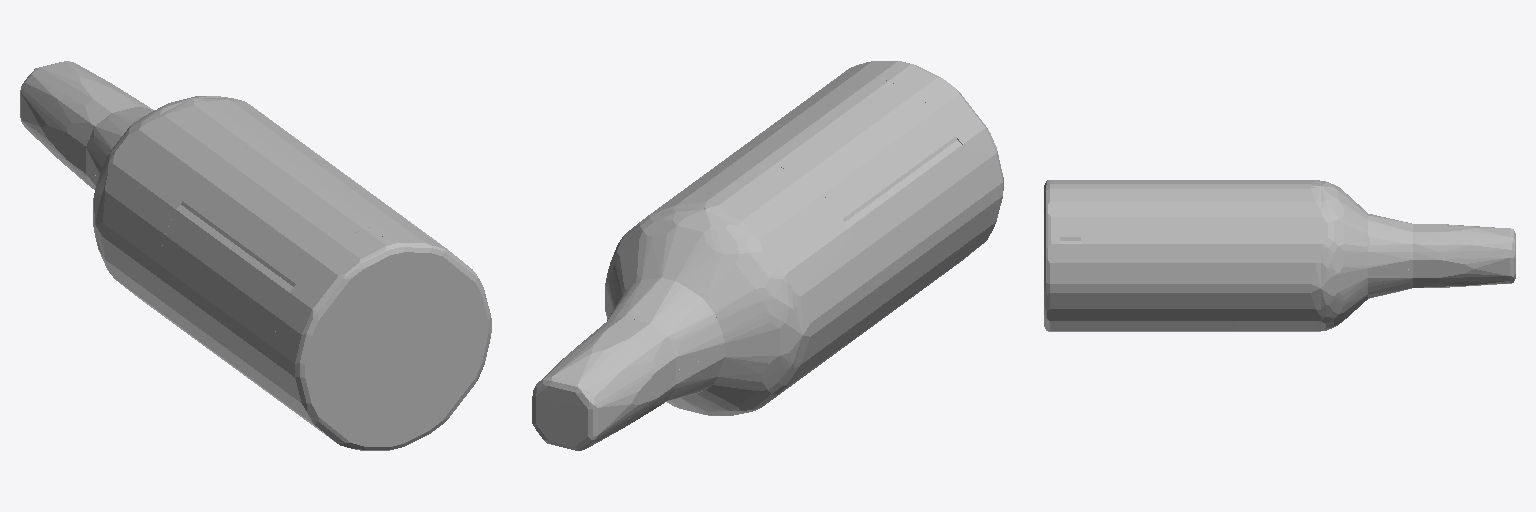
URDF robot description (root):
<robot name="root">
  <link name="link_coacd_convex_piece_0">
    <inertial>
      <origin xyz="0 0 0" rpy="0 0 0"/>
      <inertia ixx="3.10E-03" ixy="-2.65E-07" ixz="-2.00E-08" iyy="4.79E-05" iyz="-3.59E-07" izz="3.10E-03"/>
    </inertial>
    <visual>
      <origin xyz="0 0 0" rpy="0 0 0"/>
      <geometry>
        <mesh filename="coacd_convex_piece_0.obj" scale="1.0000E+00 1.0000E+00 1.0000E+00"/>
      </geometry>
      <material name="">
        <color rgba="7.50E-01 7.50E-01 7.50E-01 1"/>
      </material>
    </visual>
    <collision>
      <origin xyz="0 0 0" rpy="0 0 0"/>
      <geometry>
        <mesh filename="coacd_convex_piece_0.obj" scale="1.0000E+00 1.0000E+00 1.0000E+00"/>
      </geometry>
    </collision>
  </link>
  <link name="link_coacd_convex_piece_1">
    <inertial>
      <origin xyz="0 0 0" rpy="0 0 0"/>
      <inertia ixx="2.00E-03" ixy="6.83E-04" ixz="-1.84E-04" iyy="5.41E-04" iyz="6.43E-04" izz="2.02E-03"/>
    </inertial>
    <visual>
      <origin xyz="0 0 0" rpy="0 0 0"/>
      <geometry>
        <mesh filename="coacd_convex_piece_1.obj" scale="1.0000E+00 1.0000E+00 1.0000E+00"/>
      </geometry>
      <material name="">
        <color rgba="7.50E-01 7.50E-01 7.50E-01 1"/>
      </material>
    </visual>
    <collision>
      <origin xyz="0 0 0" rpy="0 0 0"/>
      <geometry>
        <mesh filename="coacd_convex_piece_1.obj" scale="1.0000E+00 1.0000E+00 1.0000E+00"/>
      </geometry>
    </collision>
  </link>
  <joint name="link_coacd_convex_piece_1_joint" type="fixed">
    <origin xyz="0 0 0" rpy="0 0 0"/>
    <parent link="link_coacd_convex_piece_0"/>
    <child link="link_coacd_convex_piece_1"/>
  </joint>
  <link name="link_coacd_convex_piece_2">
    <inertial>
      <origin xyz="0 0 0" rpy="0 0 0"/>
      <inertia ixx="3.47E-04" ixy="4.30E-05" ixz="-1.16E-05" iyy="3.55E-05" iyz="9.85E-05" izz="3.26E-04"/>
    </inertial>
    <visual>
      <origin xyz="0 0 0" rpy="0 0 0"/>
      <geometry>
        <mesh filename="coacd_convex_piece_2.obj" scale="1.0000E+00 1.0000E+00 1.0000E+00"/>
      </geometry>
      <material name="">
        <color rgba="7.50E-01 7.50E-01 7.50E-01 1"/>
      </material>
    </visual>
    <collision>
      <origin xyz="0 0 0" rpy="0 0 0"/>
      <geometry>
        <mesh filename="coacd_convex_piece_2.obj" scale="1.0000E+00 1.0000E+00 1.0000E+00"/>
      </geometry>
    </collision>
  </link>
  <joint name="link_coacd_convex_piece_2_joint" type="fixed">
    <origin xyz="0 0 0" rpy="0 0 0"/>
    <parent link="link_coacd_convex_piece_1"/>
    <child link="link_coacd_convex_piece_2"/>
  </joint>
  <link name="link_coacd_convex_piece_3">
    <inertial>
      <origin xyz="0 0 0" rpy="0 0 0"/>
      <inertia ixx="2.69E-03" ixy="8.31E-04" ixz="2.07E-04" iyy="6.10E-04" iyz="-7.81E-04" izz="2.72E-03"/>
    </inertial>
    <visual>
      <origin xyz="0 0 0" rpy="0 0 0"/>
      <geometry>
        <mesh filename="coacd_convex_piece_3.obj" scale="1.0000E+00 1.0000E+00 1.0000E+00"/>
      </geometry>
      <material name="">
        <color rgba="7.50E-01 7.50E-01 7.50E-01 1"/>
      </material>
    </visual>
    <collision>
      <origin xyz="0 0 0" rpy="0 0 0"/>
      <geometry>
        <mesh filename="coacd_convex_piece_3.obj" scale="1.0000E+00 1.0000E+00 1.0000E+00"/>
      </geometry>
    </collision>
  </link>
  <joint name="link_coacd_convex_piece_3_joint" type="fixed">
    <origin xyz="0 0 0" rpy="0 0 0"/>
    <parent link="link_coacd_convex_piece_2"/>
    <child link="link_coacd_convex_piece_3"/>
  </joint>
  <link name="link_coacd_convex_piece_4">
    <inertial>
      <origin xyz="0 0 0" rpy="0 0 0"/>
      <inertia ixx="2.80E-03" ixy="6.46E-07" ixz="8.81E-08" iyy="1.63E-04" iyz="-4.14E-04" izz="2.80E-03"/>
    </inertial>
    <visual>
      <origin xyz="0 0 0" rpy="0 0 0"/>
      <geometry>
        <mesh filename="coacd_convex_piece_4.obj" scale="1.0000E+00 1.0000E+00 1.0000E+00"/>
      </geometry>
      <material name="">
        <color rgba="7.50E-01 7.50E-01 7.50E-01 1"/>
      </material>
    </visual>
    <collision>
      <origin xyz="0 0 0" rpy="0 0 0"/>
      <geometry>
        <mesh filename="coacd_convex_piece_4.obj" scale="1.0000E+00 1.0000E+00 1.0000E+00"/>
      </geometry>
    </collision>
  </link>
  <joint name="link_coacd_convex_piece_4_joint" type="fixed">
    <origin xyz="0 0 0" rpy="0 0 0"/>
    <parent link="link_coacd_convex_piece_3"/>
    <child link="link_coacd_convex_piece_4"/>
  </joint>
  <link name="link_coacd_convex_piece_5">
    <inertial>
      <origin xyz="0 0 0" rpy="0 0 0"/>
      <inertia ixx="1.30E-03" ixy="-2.15E-04" ixz="-9.23E-05" iyy="3.02E-04" iyz="-5.23E-04" izz="1.12E-03"/>
    </inertial>
    <visual>
      <origin xyz="0 0 0" rpy="0 0 0"/>
      <geometry>
        <mesh filename="coacd_convex_piece_5.obj" scale="1.0000E+00 1.0000E+00 1.0000E+00"/>
      </geometry>
      <material name="">
        <color rgba="7.50E-01 7.50E-01 7.50E-01 1"/>
      </material>
    </visual>
    <collision>
      <origin xyz="0 0 0" rpy="0 0 0"/>
      <geometry>
        <mesh filename="coacd_convex_piece_5.obj" scale="1.0000E+00 1.0000E+00 1.0000E+00"/>
      </geometry>
    </collision>
  </link>
  <joint name="link_coacd_convex_piece_5_joint" type="fixed">
    <origin xyz="0 0 0" rpy="0 0 0"/>
    <parent link="link_coacd_convex_piece_4"/>
    <child link="link_coacd_convex_piece_5"/>
  </joint>
  <link name="link_coacd_convex_piece_6">
    <inertial>
      <origin xyz="0 0 0" rpy="0 0 0"/>
      <inertia ixx="1.19E-04" ixy="-2.81E-05" ixz="-4.11E-06" iyy="1.23E-05" iyz="-2.77E-05" izz="1.19E-04"/>
    </inertial>
    <visual>
      <origin xyz="0 0 0" rpy="0 0 0"/>
      <geometry>
        <mesh filename="coacd_convex_piece_6.obj" scale="1.0000E+00 1.0000E+00 1.0000E+00"/>
      </geometry>
      <material name="">
        <color rgba="7.50E-01 7.50E-01 7.50E-01 1"/>
      </material>
    </visual>
    <collision>
      <origin xyz="0 0 0" rpy="0 0 0"/>
      <geometry>
        <mesh filename="coacd_convex_piece_6.obj" scale="1.0000E+00 1.0000E+00 1.0000E+00"/>
      </geometry>
    </collision>
  </link>
  <joint name="link_coacd_convex_piece_6_joint" type="fixed">
    <origin xyz="0 0 0" rpy="0 0 0"/>
    <parent link="link_coacd_convex_piece_5"/>
    <child link="link_coacd_convex_piece_6"/>
  </joint>
  <link name="link_coacd_convex_piece_7">
    <inertial>
      <origin xyz="0 0 0" rpy="0 0 0"/>
      <inertia ixx="1.21E-04" ixy="2.77E-05" ixz="3.98E-06" iyy="1.23E-05" iyz="-2.81E-05" izz="1.21E-04"/>
    </inertial>
    <visual>
      <origin xyz="0 0 0" rpy="0 0 0"/>
      <geometry>
        <mesh filename="coacd_convex_piece_7.obj" scale="1.0000E+00 1.0000E+00 1.0000E+00"/>
      </geometry>
      <material name="">
        <color rgba="7.50E-01 7.50E-01 7.50E-01 1"/>
      </material>
    </visual>
    <collision>
      <origin xyz="0 0 0" rpy="0 0 0"/>
      <geometry>
        <mesh filename="coacd_convex_piece_7.obj" scale="1.0000E+00 1.0000E+00 1.0000E+00"/>
      </geometry>
    </collision>
  </link>
  <joint name="link_coacd_convex_piece_7_joint" type="fixed">
    <origin xyz="0 0 0" rpy="0 0 0"/>
    <parent link="link_coacd_convex_piece_6"/>
    <child link="link_coacd_convex_piece_7"/>
  </joint>
  <link name="link_coacd_convex_piece_8">
    <inertial>
      <origin xyz="0 0 0" rpy="0 0 0"/>
      <inertia ixx="5.95E-05" ixy="-7.33E-05" ixz="-3.45E-05" iyy="1.04E-04" iyz="-7.29E-05" izz="5.99E-05"/>
    </inertial>
    <visual>
      <origin xyz="0 0 0" rpy="0 0 0"/>
      <geometry>
        <mesh filename="coacd_convex_piece_8.obj" scale="1.0000E+00 1.0000E+00 1.0000E+00"/>
      </geometry>
      <material name="">
        <color rgba="7.50E-01 7.50E-01 7.50E-01 1"/>
      </material>
    </visual>
    <collision>
      <origin xyz="0 0 0" rpy="0 0 0"/>
      <geometry>
        <mesh filename="coacd_convex_piece_8.obj" scale="1.0000E+00 1.0000E+00 1.0000E+00"/>
      </geometry>
    </collision>
  </link>
  <joint name="link_coacd_convex_piece_8_joint" type="fixed">
    <origin xyz="0 0 0" rpy="0 0 0"/>
    <parent link="link_coacd_convex_piece_7"/>
    <child link="link_coacd_convex_piece_8"/>
  </joint>
  <link name="link_coacd_convex_piece_9">
    <inertial>
      <origin xyz="0 0 0" rpy="0 0 0"/>
      <inertia ixx="-8.70E-05" ixy="6.70E-06" ixz="-1.04E-04" iyy="3.16E-04" iyz="6.67E-06" izz="-8.60E-05"/>
    </inertial>
    <visual>
      <origin xyz="0 0 0" rpy="0 0 0"/>
      <geometry>
        <mesh filename="coacd_convex_piece_9.obj" scale="1.0000E+00 1.0000E+00 1.0000E+00"/>
      </geometry>
      <material name="">
        <color rgba="7.50E-01 7.50E-01 7.50E-01 1"/>
      </material>
    </visual>
    <collision>
      <origin xyz="0 0 0" rpy="0 0 0"/>
      <geometry>
        <mesh filename="coacd_convex_piece_9.obj" scale="1.0000E+00 1.0000E+00 1.0000E+00"/>
      </geometry>
    </collision>
  </link>
  <joint name="link_coacd_convex_piece_9_joint" type="fixed">
    <origin xyz="0 0 0" rpy="0 0 0"/>
    <parent link="link_coacd_convex_piece_8"/>
    <child link="link_coacd_convex_piece_9"/>
  </joint>
  <link name="link_coacd_convex_piece_10">
    <inertial>
      <origin xyz="0 0 0" rpy="0 0 0"/>
      <inertia ixx="5.87E-05" ixy="7.17E-05" ixz="3.34E-05" iyy="1.02E-04" iyz="-7.19E-05" izz="5.86E-05"/>
    </inertial>
    <visual>
      <origin xyz="0 0 0" rpy="0 0 0"/>
      <geometry>
        <mesh filename="coacd_convex_piece_10.obj" scale="1.0000E+00 1.0000E+00 1.0000E+00"/>
      </geometry>
      <material name="">
        <color rgba="7.50E-01 7.50E-01 7.50E-01 1"/>
      </material>
    </visual>
    <collision>
      <origin xyz="0 0 0" rpy="0 0 0"/>
      <geometry>
        <mesh filename="coacd_convex_piece_10.obj" scale="1.0000E+00 1.0000E+00 1.0000E+00"/>
      </geometry>
    </collision>
  </link>
  <joint name="link_coacd_convex_piece_10_joint" type="fixed">
    <origin xyz="0 0 0" rpy="0 0 0"/>
    <parent link="link_coacd_convex_piece_9"/>
    <child link="link_coacd_convex_piece_10"/>
  </joint>
  <link name="link_coacd_convex_piece_11">
    <inertial>
      <origin xyz="0 0 0" rpy="0 0 0"/>
      <inertia ixx="-8.72E-05" ixy="-6.47E-06" ixz="1.05E-04" iyy="3.20E-04" iyz="6.49E-06" izz="-8.83E-05"/>
    </inertial>
    <visual>
      <origin xyz="0 0 0" rpy="0 0 0"/>
      <geometry>
        <mesh filename="coacd_convex_piece_11.obj" scale="1.0000E+00 1.0000E+00 1.0000E+00"/>
      </geometry>
      <material name="">
        <color rgba="7.50E-01 7.50E-01 7.50E-01 1"/>
      </material>
    </visual>
    <collision>
      <origin xyz="0 0 0" rpy="0 0 0"/>
      <geometry>
        <mesh filename="coacd_convex_piece_11.obj" scale="1.0000E+00 1.0000E+00 1.0000E+00"/>
      </geometry>
    </collision>
  </link>
  <joint name="link_coacd_convex_piece_11_joint" type="fixed">
    <origin xyz="0 0 0" rpy="0 0 0"/>
    <parent link="link_coacd_convex_piece_10"/>
    <child link="link_coacd_convex_piece_11"/>
  </joint>
  <link name="link_coacd_convex_piece_12">
    <inertial>
      <origin xyz="0 0 0" rpy="0 0 0"/>
      <inertia ixx="9.39E-04" ixy="-1.64E-04" ixz="7.70E-05" iyy="2.57E-04" iyz="4.13E-04" izz="7.76E-04"/>
    </inertial>
    <visual>
      <origin xyz="0 0 0" rpy="0 0 0"/>
      <geometry>
        <mesh filename="coacd_convex_piece_12.obj" scale="1.0000E+00 1.0000E+00 1.0000E+00"/>
      </geometry>
      <material name="">
        <color rgba="7.50E-01 7.50E-01 7.50E-01 1"/>
      </material>
    </visual>
    <collision>
      <origin xyz="0 0 0" rpy="0 0 0"/>
      <geometry>
        <mesh filename="coacd_convex_piece_12.obj" scale="1.0000E+00 1.0000E+00 1.0000E+00"/>
      </geometry>
    </collision>
  </link>
  <joint name="link_coacd_convex_piece_12_joint" type="fixed">
    <origin xyz="0 0 0" rpy="0 0 0"/>
    <parent link="link_coacd_convex_piece_11"/>
    <child link="link_coacd_convex_piece_12"/>
  </joint>
  <link name="link_coacd_convex_piece_13">
    <inertial>
      <origin xyz="0 0 0" rpy="0 0 0"/>
      <inertia ixx="6.54E-04" ixy="-3.54E-04" ixz="6.47E-05" iyy="2.14E-04" iyz="1.35E-04" izz="8.01E-04"/>
    </inertial>
    <visual>
      <origin xyz="0 0 0" rpy="0 0 0"/>
      <geometry>
        <mesh filename="coacd_convex_piece_13.obj" scale="1.0000E+00 1.0000E+00 1.0000E+00"/>
      </geometry>
      <material name="">
        <color rgba="7.50E-01 7.50E-01 7.50E-01 1"/>
      </material>
    </visual>
    <collision>
      <origin xyz="0 0 0" rpy="0 0 0"/>
      <geometry>
        <mesh filename="coacd_convex_piece_13.obj" scale="1.0000E+00 1.0000E+00 1.0000E+00"/>
      </geometry>
    </collision>
  </link>
  <joint name="link_coacd_convex_piece_13_joint" type="fixed">
    <origin xyz="0 0 0" rpy="0 0 0"/>
    <parent link="link_coacd_convex_piece_12"/>
    <child link="link_coacd_convex_piece_13"/>
  </joint>
  <link name="link_coacd_convex_piece_14">
    <inertial>
      <origin xyz="0 0 0" rpy="0 0 0"/>
      <inertia ixx="2.38E-03" ixy="-3.28E-07" ixz="6.90E-08" iyy="1.36E-04" iyz="3.49E-04" izz="2.38E-03"/>
    </inertial>
    <visual>
      <origin xyz="0 0 0" rpy="0 0 0"/>
      <geometry>
        <mesh filename="coacd_convex_piece_14.obj" scale="1.0000E+00 1.0000E+00 1.0000E+00"/>
      </geometry>
      <material name="">
        <color rgba="7.50E-01 7.50E-01 7.50E-01 1"/>
      </material>
    </visual>
    <collision>
      <origin xyz="0 0 0" rpy="0 0 0"/>
      <geometry>
        <mesh filename="coacd_convex_piece_14.obj" scale="1.0000E+00 1.0000E+00 1.0000E+00"/>
      </geometry>
    </collision>
  </link>
  <joint name="link_coacd_convex_piece_14_joint" type="fixed">
    <origin xyz="0 0 0" rpy="0 0 0"/>
    <parent link="link_coacd_convex_piece_13"/>
    <child link="link_coacd_convex_piece_14"/>
  </joint>
  <link name="link_coacd_convex_piece_15">
    <inertial>
      <origin xyz="0 0 0" rpy="0 0 0"/>
      <inertia ixx="8.67E-04" ixy="-1.72E-04" ixz="2.64E-05" iyy="8.09E-05" iyz="1.72E-04" izz="8.67E-04"/>
    </inertial>
    <visual>
      <origin xyz="0 0 0" rpy="0 0 0"/>
      <geometry>
        <mesh filename="coacd_convex_piece_15.obj" scale="1.0000E+00 1.0000E+00 1.0000E+00"/>
      </geometry>
      <material name="">
        <color rgba="7.50E-01 7.50E-01 7.50E-01 1"/>
      </material>
    </visual>
    <collision>
      <origin xyz="0 0 0" rpy="0 0 0"/>
      <geometry>
        <mesh filename="coacd_convex_piece_15.obj" scale="1.0000E+00 1.0000E+00 1.0000E+00"/>
      </geometry>
    </collision>
  </link>
  <joint name="link_coacd_convex_piece_15_joint" type="fixed">
    <origin xyz="0 0 0" rpy="0 0 0"/>
    <parent link="link_coacd_convex_piece_14"/>
    <child link="link_coacd_convex_piece_15"/>
  </joint>
  <link name="link_coacd_convex_piece_16">
    <inertial>
      <origin xyz="0 0 0" rpy="0 0 0"/>
      <inertia ixx="3.29E-04" ixy="9.83E-05" ixz="-1.03E-05" iyy="3.36E-05" iyz="3.90E-05" izz="3.52E-04"/>
    </inertial>
    <visual>
      <origin xyz="0 0 0" rpy="0 0 0"/>
      <geometry>
        <mesh filename="coacd_convex_piece_16.obj" scale="1.0000E+00 1.0000E+00 1.0000E+00"/>
      </geometry>
      <material name="">
        <color rgba="7.50E-01 7.50E-01 7.50E-01 1"/>
      </material>
    </visual>
    <collision>
      <origin xyz="0 0 0" rpy="0 0 0"/>
      <geometry>
        <mesh filename="coacd_convex_piece_16.obj" scale="1.0000E+00 1.0000E+00 1.0000E+00"/>
      </geometry>
    </collision>
  </link>
  <joint name="link_coacd_convex_piece_16_joint" type="fixed">
    <origin xyz="0 0 0" rpy="0 0 0"/>
    <parent link="link_coacd_convex_piece_15"/>
    <child link="link_coacd_convex_piece_16"/>
  </joint>
  <link name="link_coacd_convex_piece_17">
    <inertial>
      <origin xyz="0 0 0" rpy="0 0 0"/>
      <inertia ixx="1.20E-04" ixy="-2.76E-05" ixz="3.98E-06" iyy="1.22E-05" iyz="2.77E-05" izz="1.20E-04"/>
    </inertial>
    <visual>
      <origin xyz="0 0 0" rpy="0 0 0"/>
      <geometry>
        <mesh filename="coacd_convex_piece_17.obj" scale="1.0000E+00 1.0000E+00 1.0000E+00"/>
      </geometry>
      <material name="">
        <color rgba="7.50E-01 7.50E-01 7.50E-01 1"/>
      </material>
    </visual>
    <collision>
      <origin xyz="0 0 0" rpy="0 0 0"/>
      <geometry>
        <mesh filename="coacd_convex_piece_17.obj" scale="1.0000E+00 1.0000E+00 1.0000E+00"/>
      </geometry>
    </collision>
  </link>
  <joint name="link_coacd_convex_piece_17_joint" type="fixed">
    <origin xyz="0 0 0" rpy="0 0 0"/>
    <parent link="link_coacd_convex_piece_16"/>
    <child link="link_coacd_convex_piece_17"/>
  </joint>
  <link name="link_coacd_convex_piece_18">
    <inertial>
      <origin xyz="0 0 0" rpy="0 0 0"/>
      <inertia ixx="1.20E-04" ixy="2.77E-05" ixz="-4.00E-06" iyy="1.22E-05" iyz="2.77E-05" izz="1.20E-04"/>
    </inertial>
    <visual>
      <origin xyz="0 0 0" rpy="0 0 0"/>
      <geometry>
        <mesh filename="coacd_convex_piece_18.obj" scale="1.0000E+00 1.0000E+00 1.0000E+00"/>
      </geometry>
      <material name="">
        <color rgba="7.50E-01 7.50E-01 7.50E-01 1"/>
      </material>
    </visual>
    <collision>
      <origin xyz="0 0 0" rpy="0 0 0"/>
      <geometry>
        <mesh filename="coacd_convex_piece_18.obj" scale="1.0000E+00 1.0000E+00 1.0000E+00"/>
      </geometry>
    </collision>
  </link>
  <joint name="link_coacd_convex_piece_18_joint" type="fixed">
    <origin xyz="0 0 0" rpy="0 0 0"/>
    <parent link="link_coacd_convex_piece_17"/>
    <child link="link_coacd_convex_piece_18"/>
  </joint>
  <link name="link_coacd_convex_piece_19">
    <inertial>
      <origin xyz="0 0 0" rpy="0 0 0"/>
      <inertia ixx="5.85E-05" ixy="-7.14E-05" ixz="3.33E-05" iyy="1.01E-04" iyz="7.16E-05" izz="5.82E-05"/>
    </inertial>
    <visual>
      <origin xyz="0 0 0" rpy="0 0 0"/>
      <geometry>
        <mesh filename="coacd_convex_piece_19.obj" scale="1.0000E+00 1.0000E+00 1.0000E+00"/>
      </geometry>
      <material name="">
        <color rgba="7.50E-01 7.50E-01 7.50E-01 1"/>
      </material>
    </visual>
    <collision>
      <origin xyz="0 0 0" rpy="0 0 0"/>
      <geometry>
        <mesh filename="coacd_convex_piece_19.obj" scale="1.0000E+00 1.0000E+00 1.0000E+00"/>
      </geometry>
    </collision>
  </link>
  <joint name="link_coacd_convex_piece_19_joint" type="fixed">
    <origin xyz="0 0 0" rpy="0 0 0"/>
    <parent link="link_coacd_convex_piece_18"/>
    <child link="link_coacd_convex_piece_19"/>
  </joint>
  <link name="link_coacd_convex_piece_20">
    <inertial>
      <origin xyz="0 0 0" rpy="0 0 0"/>
      <inertia ixx="-8.71E-05" ixy="6.40E-06" ixz="1.05E-04" iyy="3.18E-04" iyz="-6.40E-06" izz="-8.71E-05"/>
    </inertial>
    <visual>
      <origin xyz="0 0 0" rpy="0 0 0"/>
      <geometry>
        <mesh filename="coacd_convex_piece_20.obj" scale="1.0000E+00 1.0000E+00 1.0000E+00"/>
      </geometry>
      <material name="">
        <color rgba="7.50E-01 7.50E-01 7.50E-01 1"/>
      </material>
    </visual>
    <collision>
      <origin xyz="0 0 0" rpy="0 0 0"/>
      <geometry>
        <mesh filename="coacd_convex_piece_20.obj" scale="1.0000E+00 1.0000E+00 1.0000E+00"/>
      </geometry>
    </collision>
  </link>
  <joint name="link_coacd_convex_piece_20_joint" type="fixed">
    <origin xyz="0 0 0" rpy="0 0 0"/>
    <parent link="link_coacd_convex_piece_19"/>
    <child link="link_coacd_convex_piece_20"/>
  </joint>
  <link name="link_coacd_convex_piece_21">
    <inertial>
      <origin xyz="0 0 0" rpy="0 0 0"/>
      <inertia ixx="5.82E-05" ixy="7.12E-05" ixz="-3.31E-05" iyy="1.01E-04" iyz="7.12E-05" izz="5.82E-05"/>
    </inertial>
    <visual>
      <origin xyz="0 0 0" rpy="0 0 0"/>
      <geometry>
        <mesh filename="coacd_convex_piece_21.obj" scale="1.0000E+00 1.0000E+00 1.0000E+00"/>
      </geometry>
      <material name="">
        <color rgba="7.50E-01 7.50E-01 7.50E-01 1"/>
      </material>
    </visual>
    <collision>
      <origin xyz="0 0 0" rpy="0 0 0"/>
      <geometry>
        <mesh filename="coacd_convex_piece_21.obj" scale="1.0000E+00 1.0000E+00 1.0000E+00"/>
      </geometry>
    </collision>
  </link>
  <joint name="link_coacd_convex_piece_21_joint" type="fixed">
    <origin xyz="0 0 0" rpy="0 0 0"/>
    <parent link="link_coacd_convex_piece_20"/>
    <child link="link_coacd_convex_piece_21"/>
  </joint>
  <link name="link_coacd_convex_piece_22">
    <inertial>
      <origin xyz="0 0 0" rpy="0 0 0"/>
      <inertia ixx="-8.71E-05" ixy="-6.33E-06" ixz="-1.05E-04" iyy="3.19E-04" iyz="-6.32E-06" izz="-8.71E-05"/>
    </inertial>
    <visual>
      <origin xyz="0 0 0" rpy="0 0 0"/>
      <geometry>
        <mesh filename="coacd_convex_piece_22.obj" scale="1.0000E+00 1.0000E+00 1.0000E+00"/>
      </geometry>
      <material name="">
        <color rgba="7.50E-01 7.50E-01 7.50E-01 1"/>
      </material>
    </visual>
    <collision>
      <origin xyz="0 0 0" rpy="0 0 0"/>
      <geometry>
        <mesh filename="coacd_convex_piece_22.obj" scale="1.0000E+00 1.0000E+00 1.0000E+00"/>
      </geometry>
    </collision>
  </link>
  <joint name="link_coacd_convex_piece_22_joint" type="fixed">
    <origin xyz="0 0 0" rpy="0 0 0"/>
    <parent link="link_coacd_convex_piece_21"/>
    <child link="link_coacd_convex_piece_22"/>
  </joint>
  <link name="link_coacd_convex_piece_23">
    <inertial>
      <origin xyz="0 0 0" rpy="0 0 0"/>
      <inertia ixx="8.53E-04" ixy="-4.14E-04" ixz="-6.73E-05" iyy="2.30E-04" iyz="-1.50E-04" izz="1.02E-03"/>
    </inertial>
    <visual>
      <origin xyz="0 0 0" rpy="0 0 0"/>
      <geometry>
        <mesh filename="coacd_convex_piece_23.obj" scale="1.0000E+00 1.0000E+00 1.0000E+00"/>
      </geometry>
      <material name="">
        <color rgba="7.50E-01 7.50E-01 7.50E-01 1"/>
      </material>
    </visual>
    <collision>
      <origin xyz="0 0 0" rpy="0 0 0"/>
      <geometry>
        <mesh filename="coacd_convex_piece_23.obj" scale="1.0000E+00 1.0000E+00 1.0000E+00"/>
      </geometry>
    </collision>
  </link>
  <joint name="link_coacd_convex_piece_23_joint" type="fixed">
    <origin xyz="0 0 0" rpy="0 0 0"/>
    <parent link="link_coacd_convex_piece_22"/>
    <child link="link_coacd_convex_piece_23"/>
  </joint>
</robot>

--- Facts derived from the render (not from the file) ---
The picture shows the robot from 3 angles, left to right: view 1: azimuth 30°, elevation 25°; view 2: azimuth 150°, elevation 25°; view 3: azimuth 270°, elevation 25°; orthographic projection.
Model root with 24 links and 23 joints (23 fixed), rooted at link_coacd_convex_piece_0, posed every joint at zero.
Visible links, largest first — view 1: link_coacd_convex_piece_14, link_coacd_convex_piece_4, link_coacd_convex_piece_12, link_coacd_convex_piece_11, link_coacd_convex_piece_13, link_coacd_convex_piece_0, link_coacd_convex_piece_23, link_coacd_convex_piece_1, link_coacd_convex_piece_15, link_coacd_convex_piece_22, link_coacd_convex_piece_9, link_coacd_convex_piece_7 (+2 smaller); view 2: link_coacd_convex_piece_12, link_coacd_convex_piece_0, link_coacd_convex_piece_11, link_coacd_convex_piece_10, link_coacd_convex_piece_13, link_coacd_convex_piece_21, link_coacd_convex_piece_23, link_coacd_convex_piece_8, link_coacd_convex_piece_7, link_coacd_convex_piece_1, link_coacd_convex_piece_15, link_coacd_convex_piece_22 (+5 smaller); view 3: link_coacd_convex_piece_1, link_coacd_convex_piece_9, link_coacd_convex_piece_3, link_coacd_convex_piece_0, link_coacd_convex_piece_8, link_coacd_convex_piece_20, link_coacd_convex_piece_6, link_coacd_convex_piece_14, link_coacd_convex_piece_19, link_coacd_convex_piece_12, link_coacd_convex_piece_2, link_coacd_convex_piece_17 (+3 smaller).
Boxes of the visible links, x1,y1,x2,y2 form: link_coacd_convex_piece_14: [288, 237, 491, 371]; link_coacd_convex_piece_4: [285, 325, 491, 450]; link_coacd_convex_piece_12: [181, 143, 373, 286]; link_coacd_convex_piece_11: [95, 98, 255, 269]; link_coacd_convex_piece_13: [158, 205, 292, 353]; link_coacd_convex_piece_0: [20, 61, 152, 188]; link_coacd_convex_piece_23: [158, 271, 301, 415]; link_coacd_convex_piece_1: [262, 143, 422, 231]; link_coacd_convex_piece_15: [272, 228, 384, 364]; link_coacd_convex_piece_22: [95, 225, 195, 339]; link_coacd_convex_piece_9: [194, 98, 309, 148]; link_coacd_convex_piece_7: [86, 110, 145, 178]; link_coacd_convex_piece_12: [764, 78, 956, 221]; link_coacd_convex_piece_0: [532, 317, 675, 450]; link_coacd_convex_piece_11: [705, 163, 865, 334]; link_coacd_convex_piece_10: [670, 209, 802, 349]; link_coacd_convex_piece_13: [845, 140, 979, 288]; link_coacd_convex_piece_21: [677, 336, 802, 415]; link_coacd_convex_piece_23: [849, 197, 992, 341]; link_coacd_convex_piece_8: [605, 209, 703, 312]; link_coacd_convex_piece_7: [637, 280, 724, 370]; link_coacd_convex_piece_1: [715, 78, 876, 166]; link_coacd_convex_piece_15: [882, 68, 995, 205]; link_coacd_convex_piece_22: [761, 290, 865, 407]; link_coacd_convex_piece_1: [1081, 188, 1234, 287]; link_coacd_convex_piece_9: [1235, 187, 1320, 287]; link_coacd_convex_piece_3: [1063, 288, 1234, 331]; link_coacd_convex_piece_0: [1413, 224, 1515, 287]; link_coacd_convex_piece_8: [1321, 187, 1367, 287]; link_coacd_convex_piece_20: [1235, 288, 1320, 331]; link_coacd_convex_piece_6: [1368, 217, 1412, 273]; link_coacd_convex_piece_14: [1044, 180, 1059, 287]; link_coacd_convex_piece_19: [1321, 274, 1367, 330]; link_coacd_convex_piece_12: [1081, 180, 1234, 187]; link_coacd_convex_piece_2: [1060, 186, 1080, 240]; link_coacd_convex_piece_17: [1368, 269, 1412, 298].
Size in the robot's own frame: 0.6108 by 1.87 by 0.6108 metres.
24 mesh visuals loaded from 24 distinct referenced files (24 OBJ).